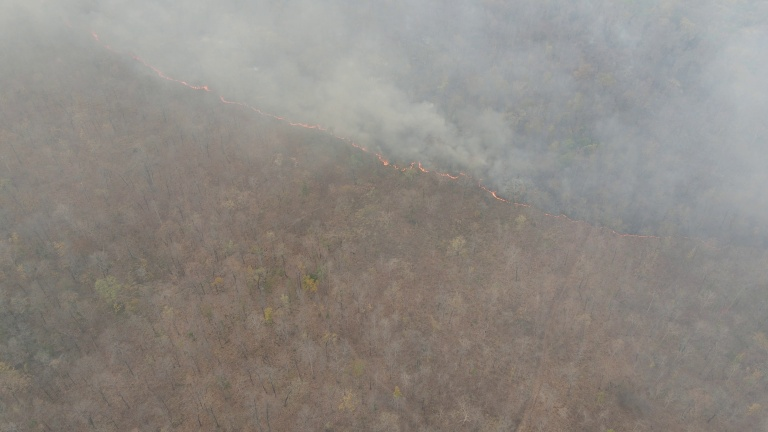fire: (438, 171, 689, 244), (220, 99, 430, 176), (70, 17, 215, 94)
smoke: (5, 1, 768, 248)
